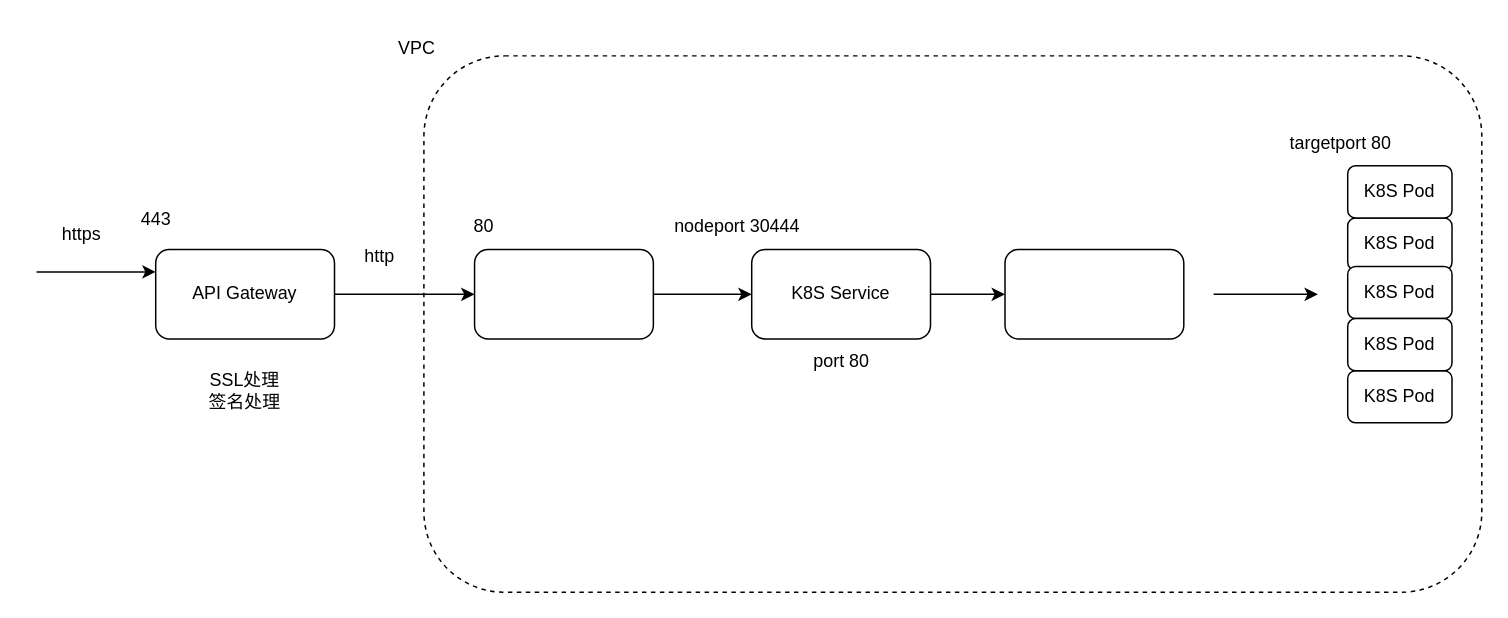
Image size: 1508x618. Some labels were removed from this diagram. The shapes that lost their labels are listed below. From the top down, each one's centre as x and y in pixels, then its label:
At [563,293]: "SLB".
At [1094,293]: "K8S Deployment".
